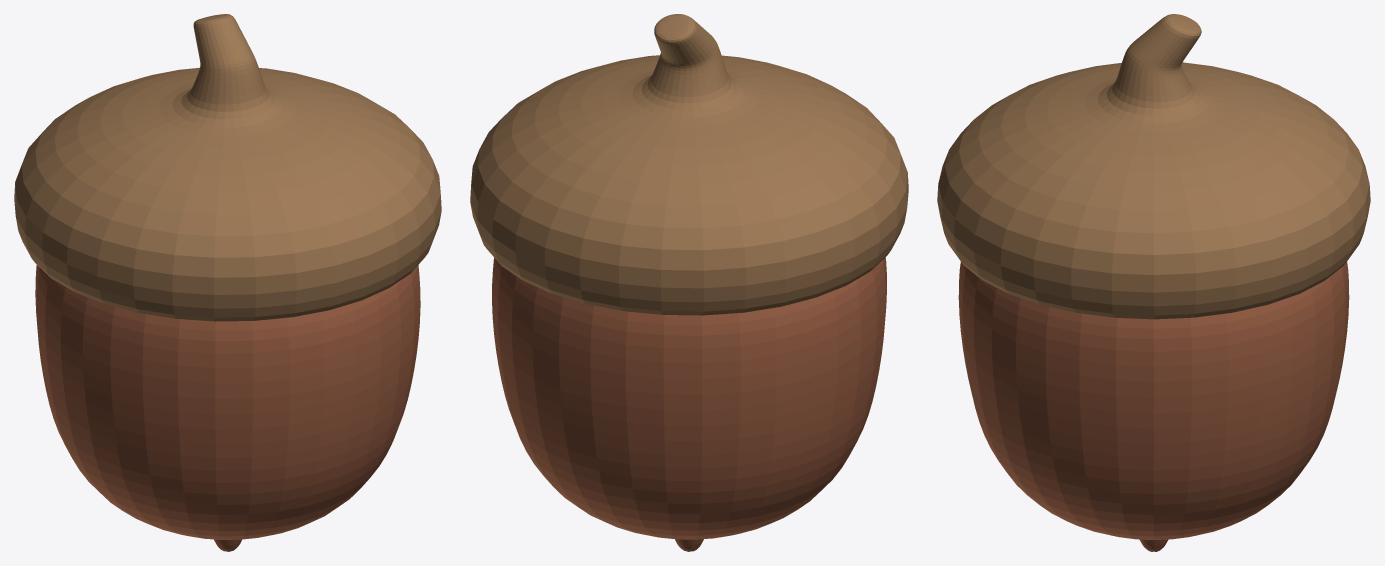
Rendered from acorn.fbx.
3 views of the same model, side by side, from view 1: azimuth 30°, elevation 25°; view 2: azimuth 150°, elevation 25°; view 3: azimuth 270°, elevation 25° (orthographic). The views are drawn at different scales.
Parts seen in each view (by area): view 1: acorntop, acornbottom; view 2: acorntop, acornbottom; view 3: acorntop, acornbottom.
Boxes of the visible parts, box(x1,y1,x2,y2) form: acorntop: box(14, 14, 441, 321); acornbottom: box(35, 265, 420, 551); acorntop: box(470, 14, 908, 315); acornbottom: box(492, 257, 886, 551); acorntop: box(937, 14, 1370, 319); acornbottom: box(958, 262, 1349, 551).
Size of the model in its own units: 230 by 313 by 230.
